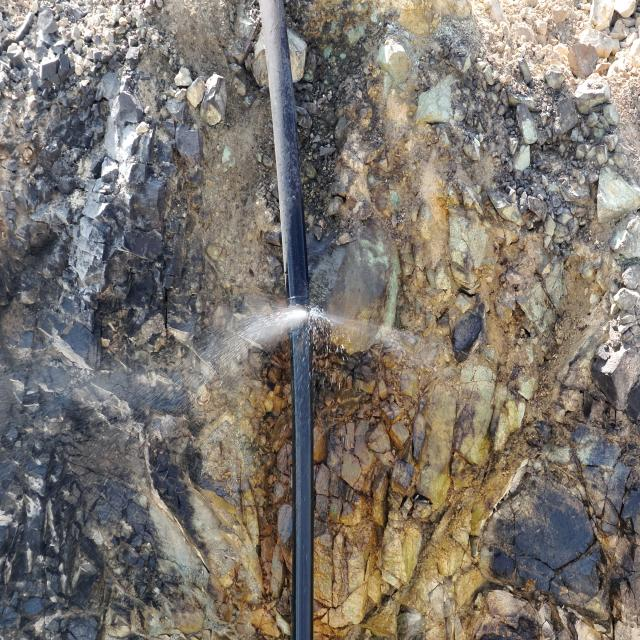leak: (103, 292, 501, 427)
